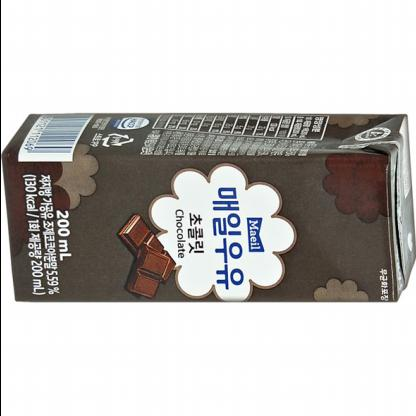tetra: (1, 70, 415, 343)
